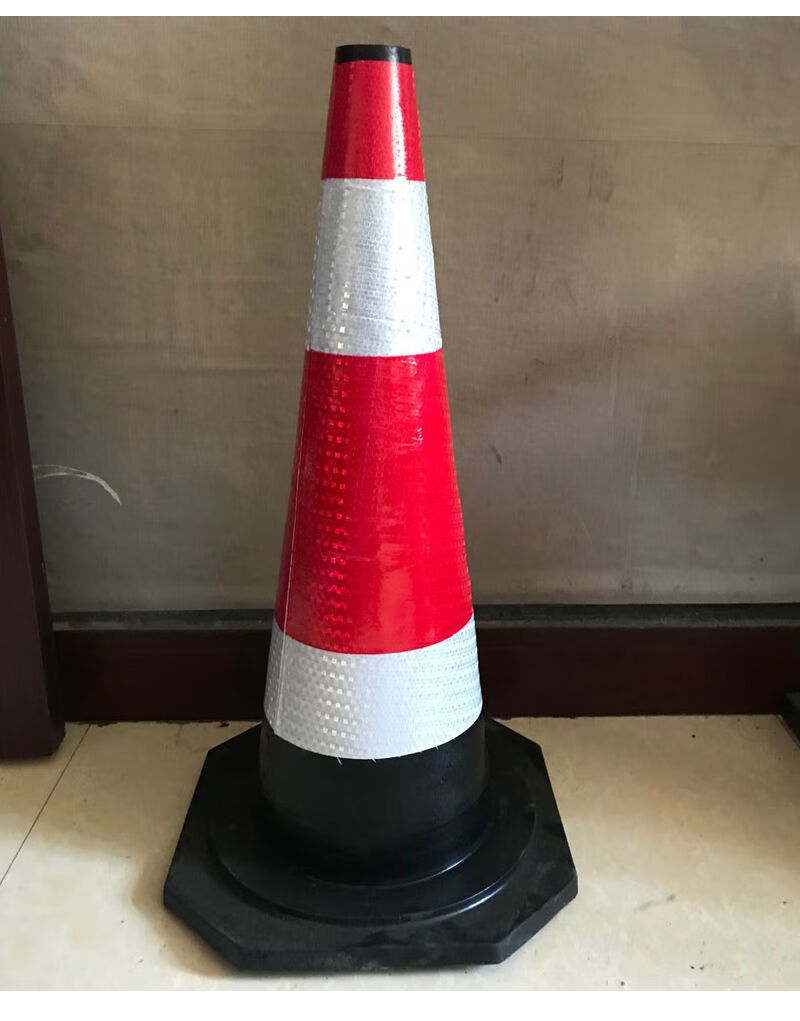traffic_cone: (157, 34, 596, 977)
